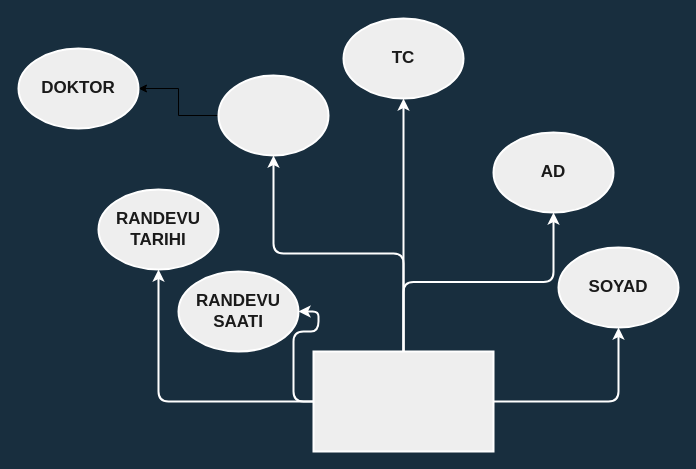
Image size: 696x469. Some labels were removed from this diagram. The shapes that lost their labels are listed below. From the top down, each one's centre as x and y in pixels, then its label:
At (x=273, y=115): "POLIKLINIK".
At (x=403, y=401): "HASTA".
